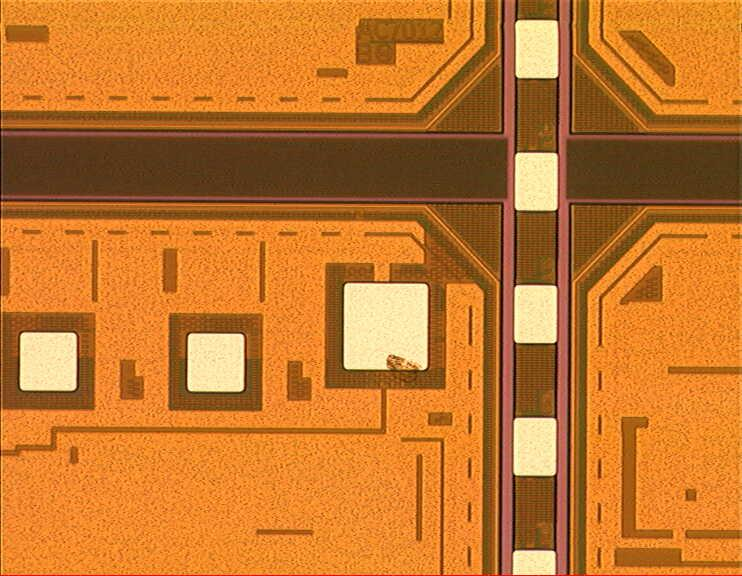PIQ PARTICLE: (384, 346, 424, 386)
